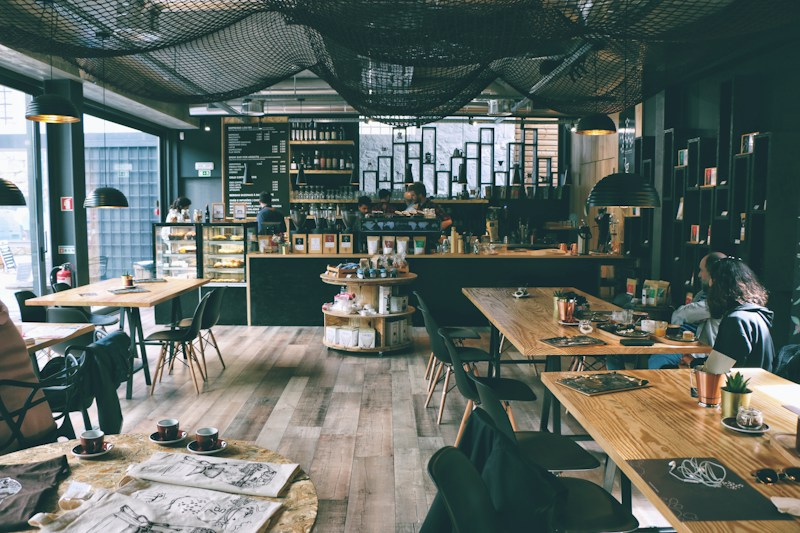cup: (690, 368, 727, 408), (192, 426, 219, 450), (156, 417, 180, 440)
